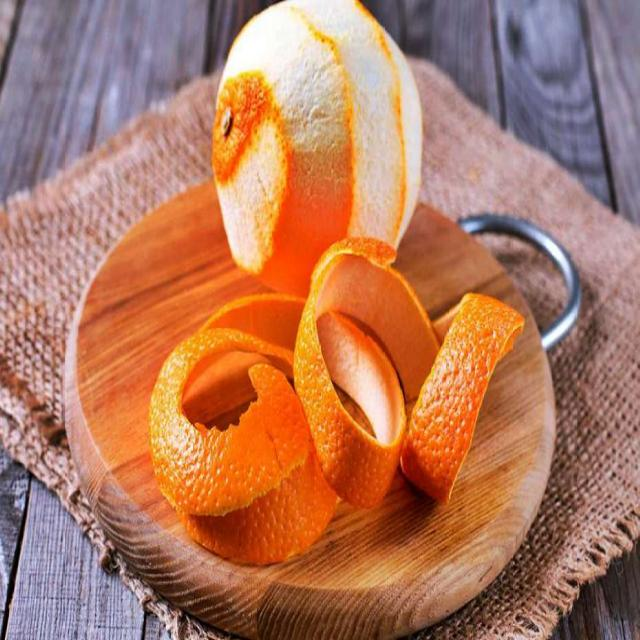Cascara de naranja: (155, 250, 529, 555)
